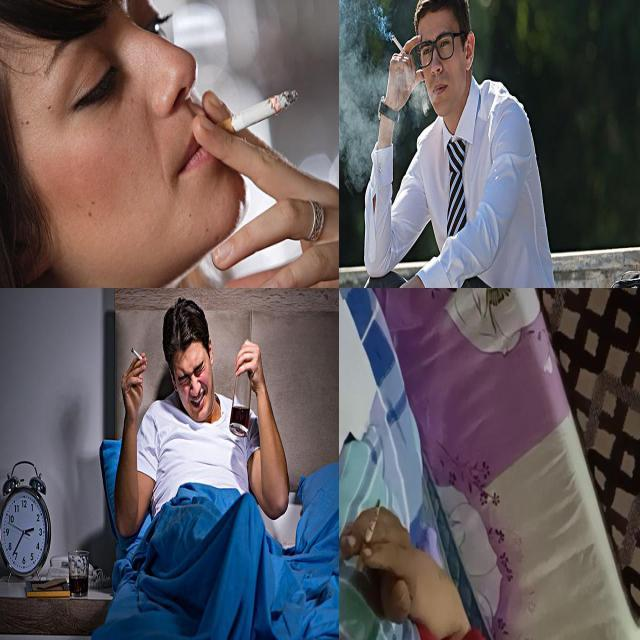smoking: (207, 90, 299, 136), (356, 499, 381, 573), (392, 34, 409, 58), (130, 346, 148, 364)
